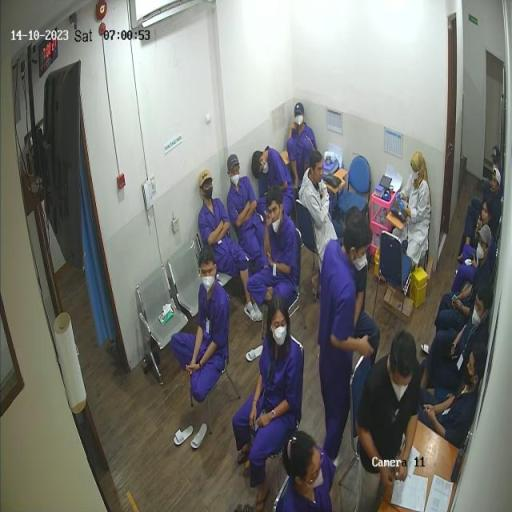person: (233, 294, 303, 512), (319, 213, 378, 468), (356, 330, 420, 512), (200, 171, 264, 322), (171, 245, 230, 404), (420, 283, 496, 390), (420, 343, 489, 450), (299, 152, 345, 295), (247, 187, 298, 309), (436, 225, 492, 333), (228, 156, 268, 275), (394, 152, 433, 273), (452, 196, 496, 295), (283, 430, 336, 512), (459, 169, 504, 261), (253, 147, 295, 220), (288, 104, 318, 189), (472, 147, 503, 213)
